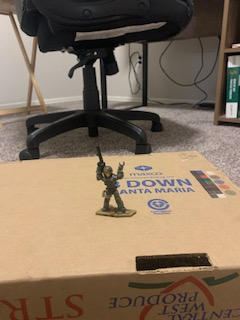soldier: (92, 146, 130, 216)
